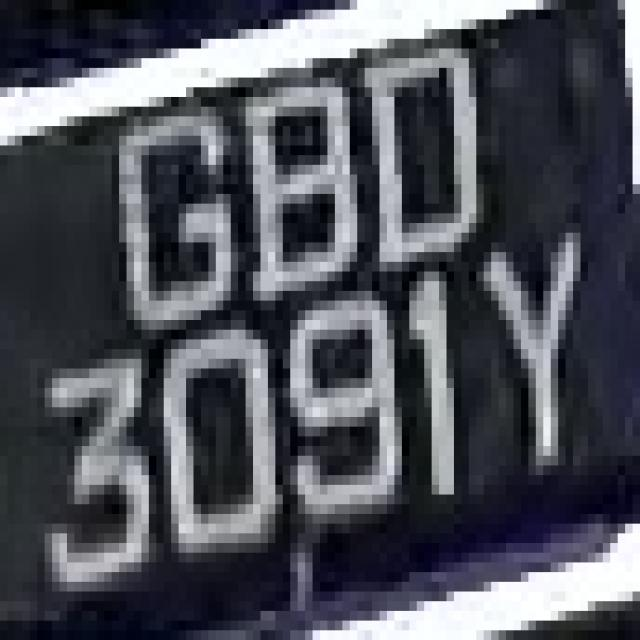0: (149, 340, 298, 572)
1: (387, 233, 469, 543)
3: (22, 349, 156, 621)
9: (275, 262, 402, 533)
B: (223, 88, 357, 368)
D: (350, 29, 491, 301)
G: (90, 87, 260, 359)
Y: (461, 184, 603, 524)
